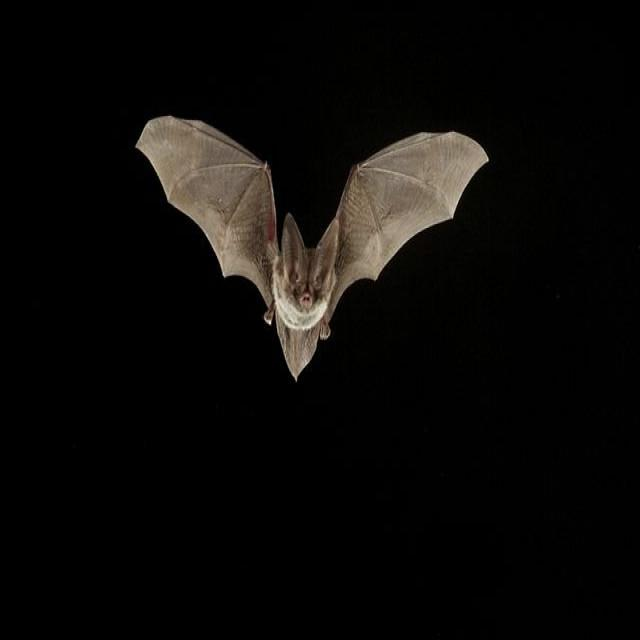bat: (138, 117, 488, 377)
